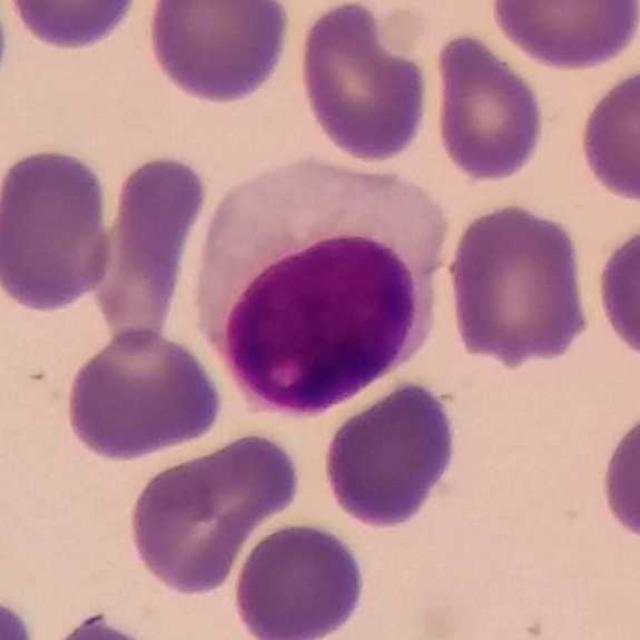Lymphocyte: (193, 155, 452, 418)
RBC: (122, 428, 305, 599), (442, 197, 594, 371), (88, 148, 211, 351), (293, 0, 435, 167), (61, 325, 226, 463), (318, 377, 462, 532), (0, 142, 118, 318), (428, 28, 548, 187), (229, 517, 369, 640), (142, 0, 295, 108), (485, 0, 639, 72), (574, 61, 640, 207), (2, 0, 148, 53), (595, 395, 640, 557), (592, 217, 640, 367), (49, 613, 136, 640)
